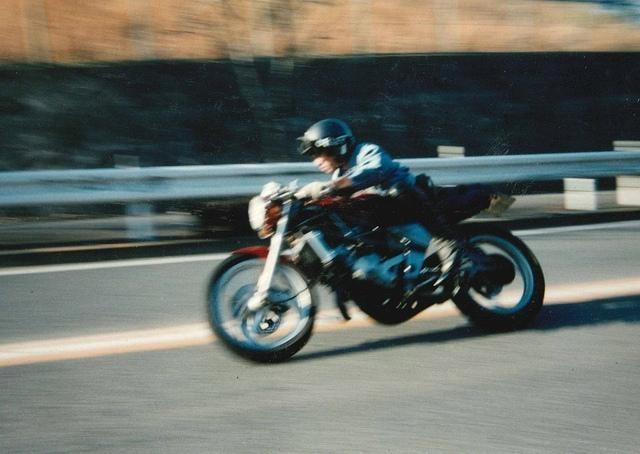motorcycle: (206, 188, 540, 352)
